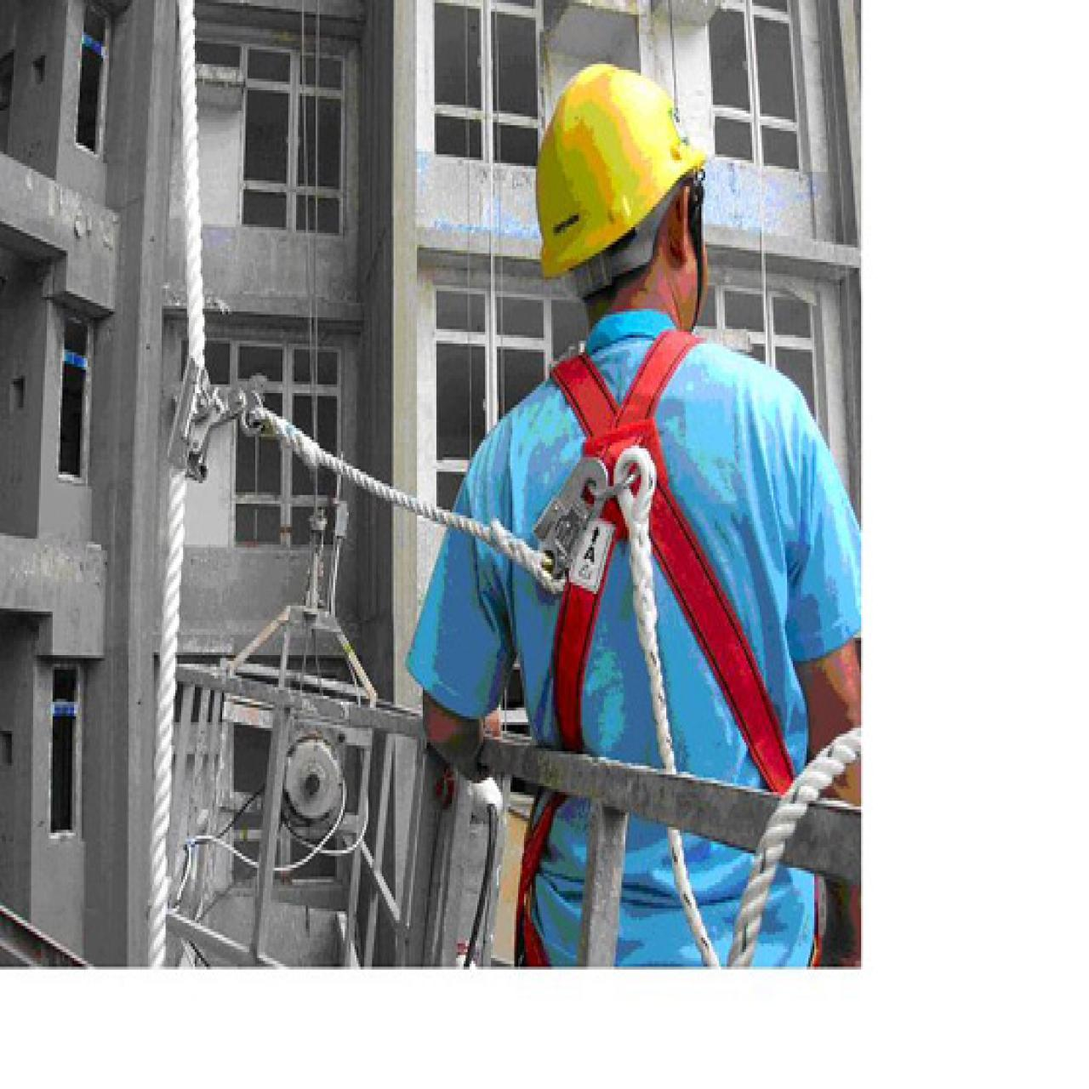NO_Safety_Vest: (438, 328, 849, 962)
Person: (400, 60, 860, 976)
